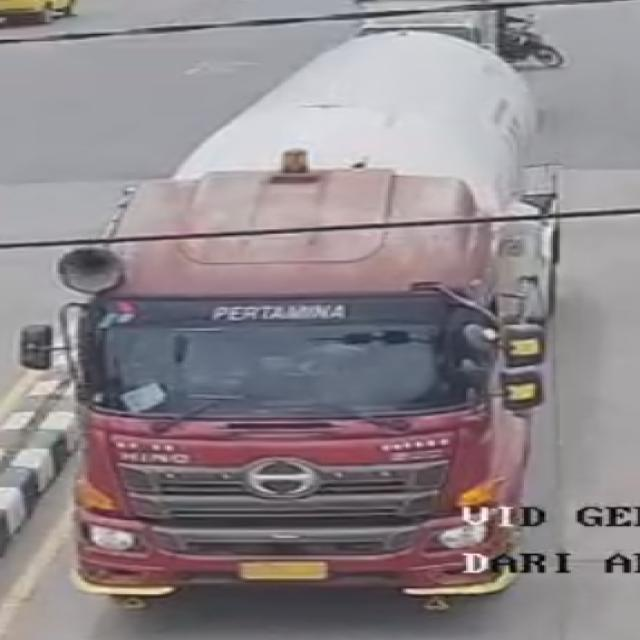Truck: (50, 51, 578, 611)
